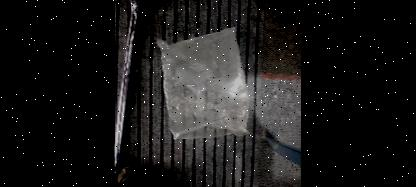Others: (156, 27, 248, 138)
